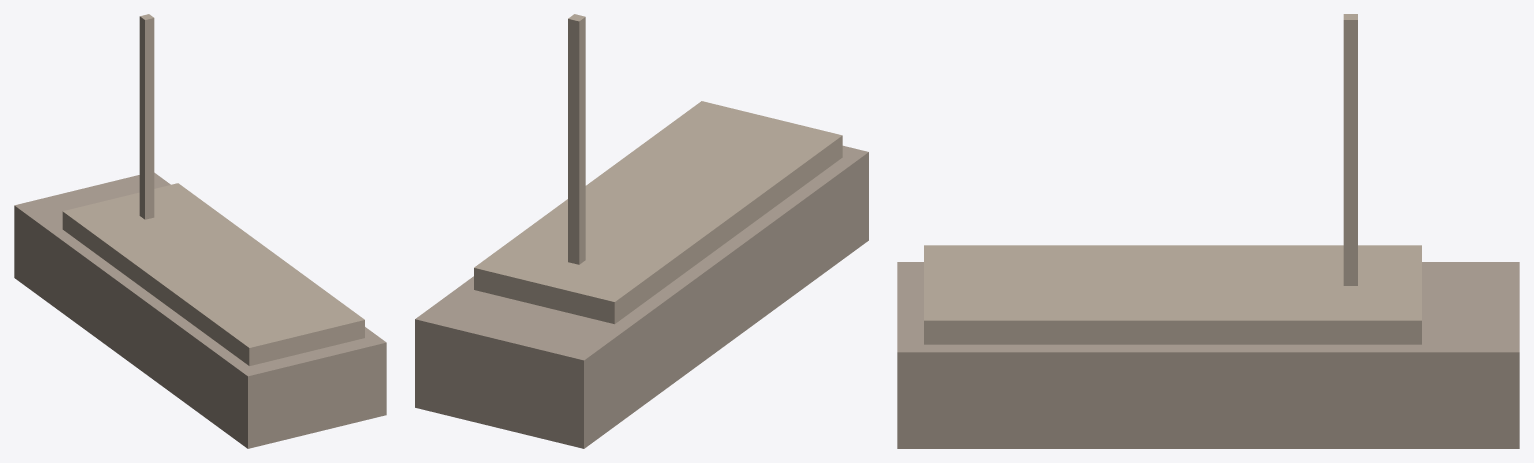
The model's file is Prop_BoatWreck.glb.
3 renders of one model, left to right at view 1: azimuth 30°, elevation 25°; view 2: azimuth 150°, elevation 25°; view 3: azimuth 270°, elevation 25°, orthographic. The views are drawn at different scales.
Size of the model in its own units: 1.2 by 2.4 by 3.5.
